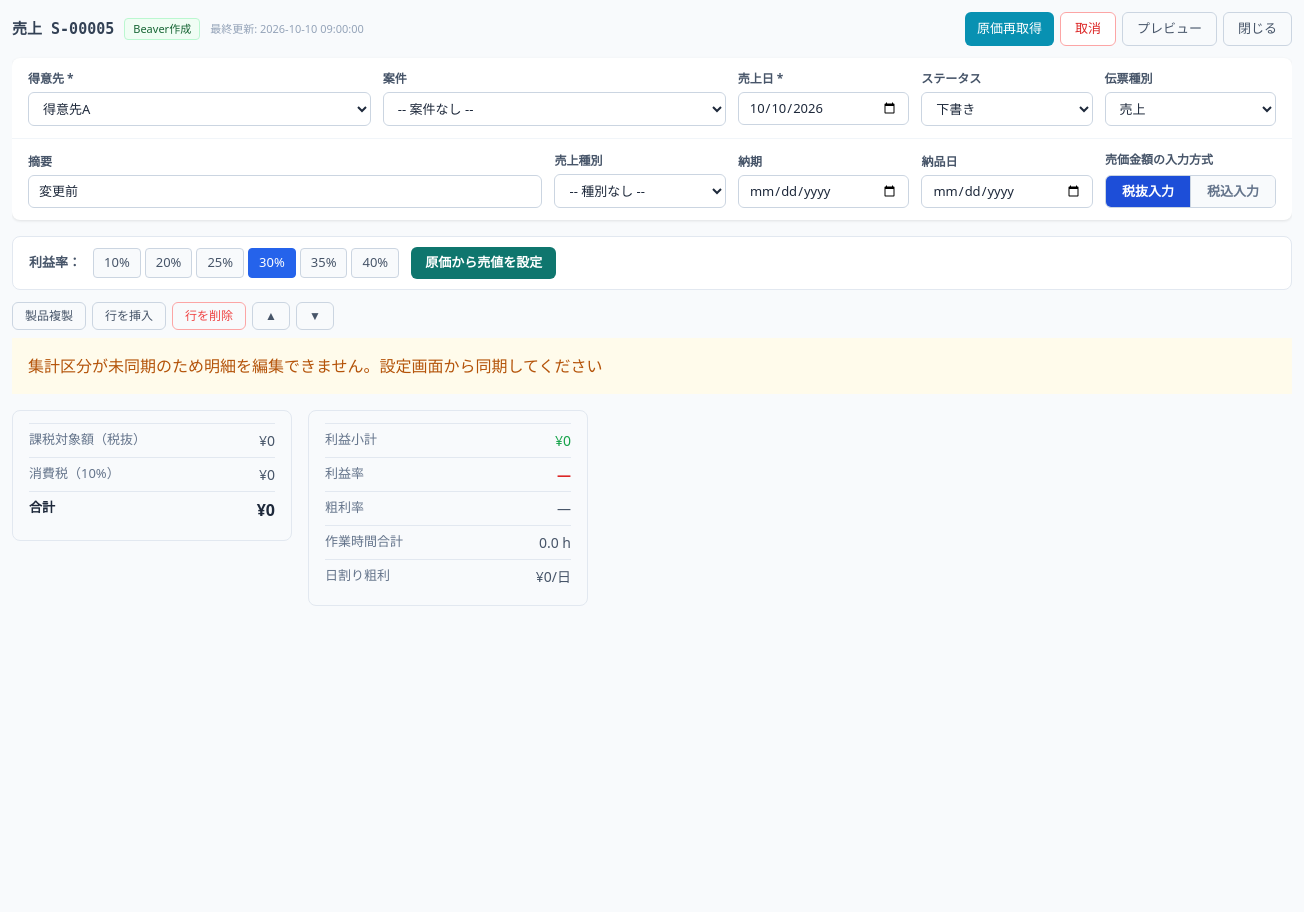
Scenario: R-0168 離脱前に保存結果を待つ › 離脱前保存がstaleなら入力を残して競合を表示し、確認も移動もしない
Expected: the date field showing "2026-10-10" below "売上日 *" is shown, [738,92,909,125]
Replace the text in the field named "description" with "競合しても残す摘要" at (285, 191), box [28,174,542,208]
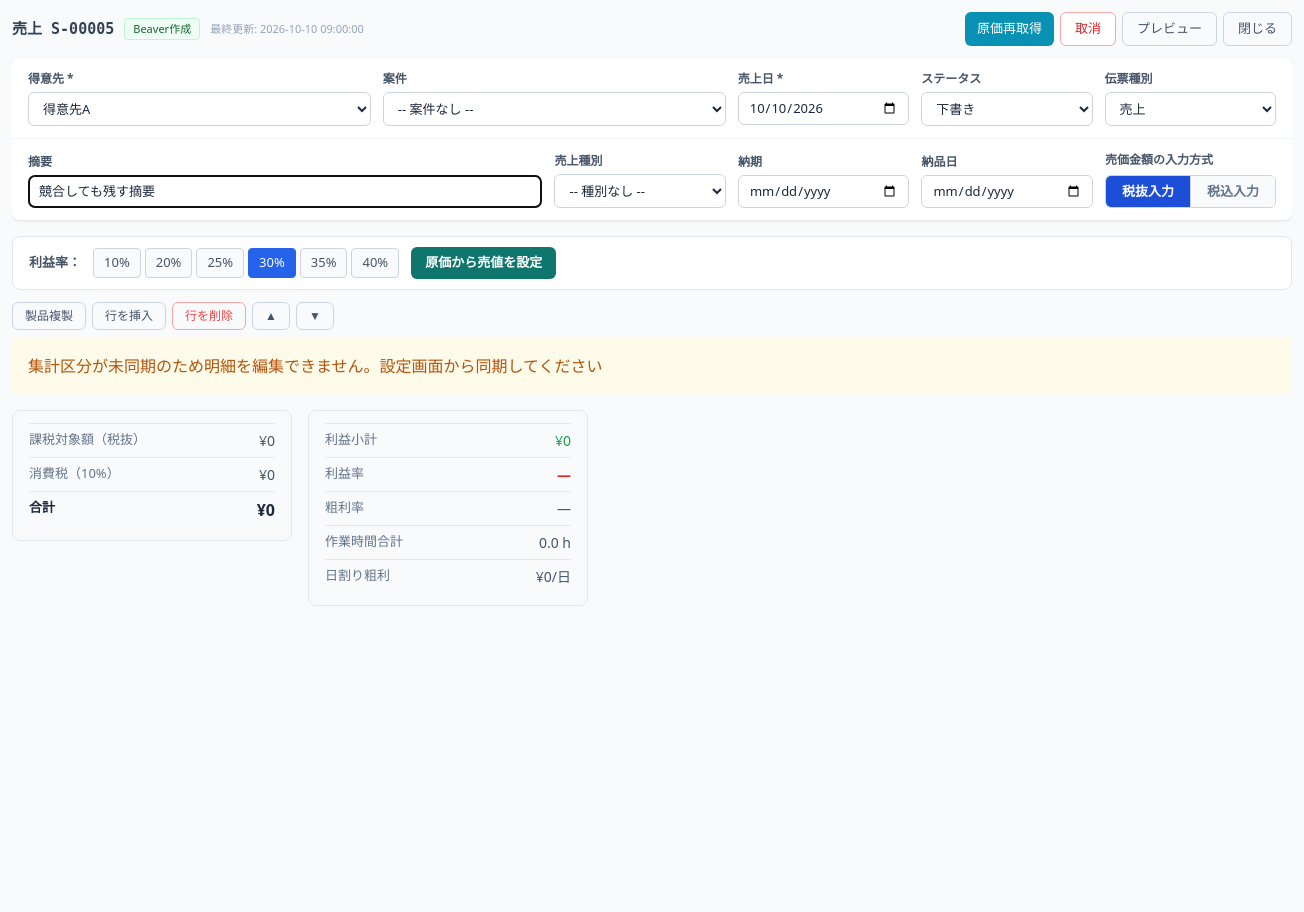
Click the button "閉じる" at (1258, 29), box [1223,12,1292,46]
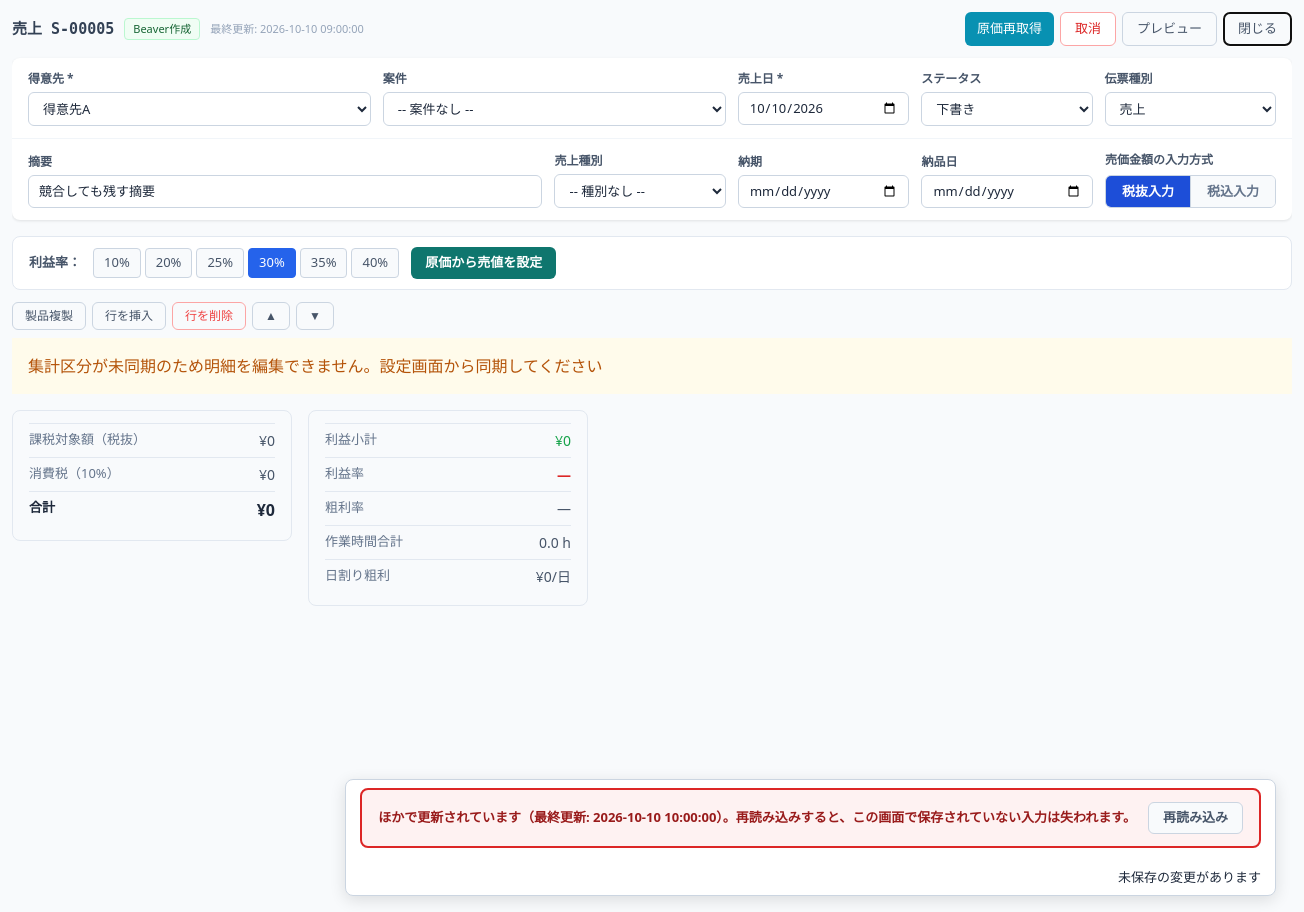
Now the text "ほかで更新されています（最終更新: 2026-10-10 10:00:00）" is shown, box [378,808,1136,828]
Now the button "再読み込み" is shown, box [1148,802,1243,834]
